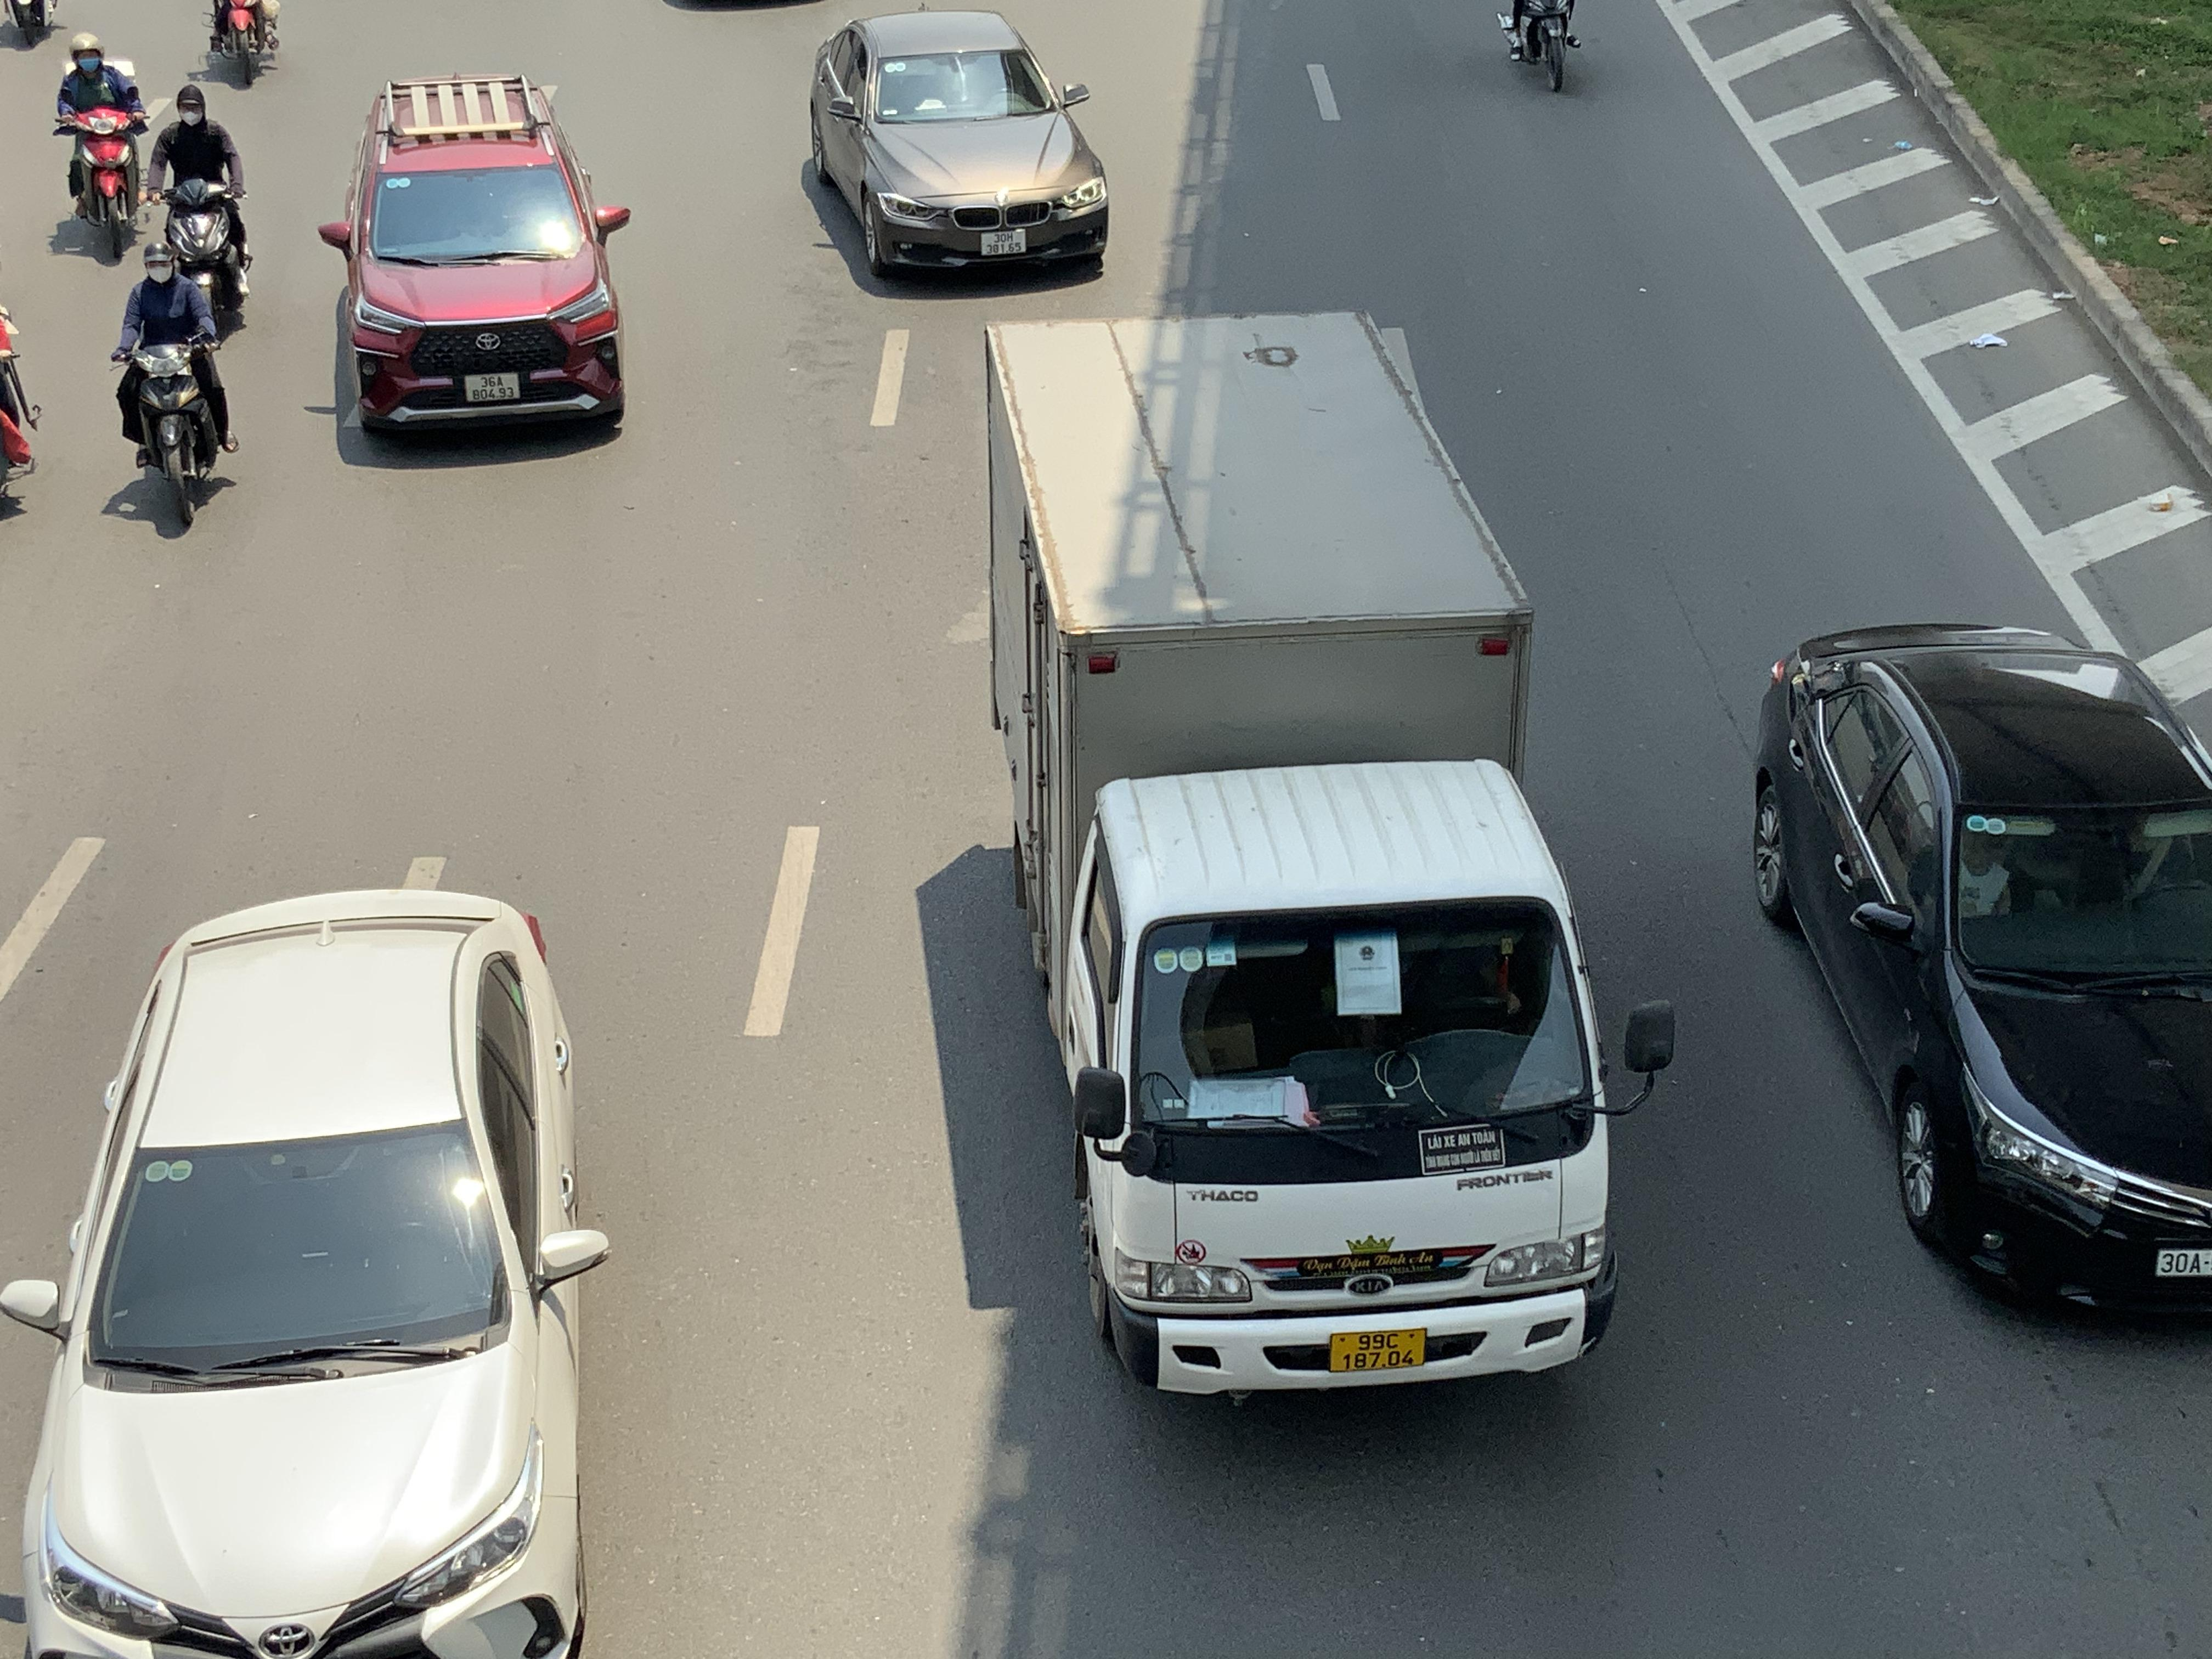BSD: (2155, 1248, 2212, 1276)
BSV: (1329, 1330, 1425, 1371), (465, 373, 519, 403), (981, 228, 1028, 256)
car: (0, 884, 611, 1659), (1745, 619, 2212, 1326), (317, 73, 632, 448), (801, 9, 1111, 284)
motorbike: (113, 242, 233, 537), (148, 82, 253, 328), (56, 35, 148, 261), (204, 0, 280, 89)
truck: (974, 305, 1674, 1398)
